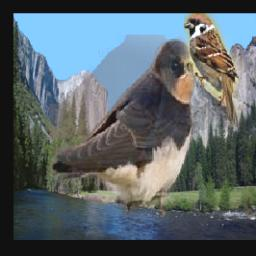Sparrow: (185, 13, 240, 128)
Swallow: (49, 35, 201, 217)
